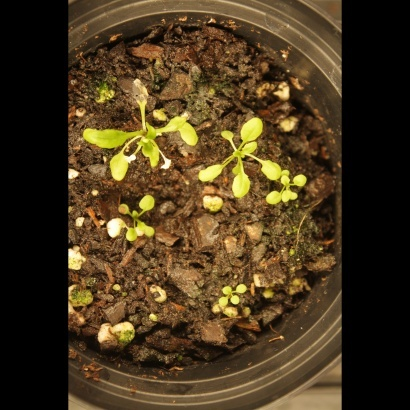leaf: (81, 120, 132, 150), (165, 116, 206, 149), (191, 157, 229, 187), (133, 139, 169, 170), (227, 170, 259, 204), (101, 151, 130, 185), (236, 115, 270, 144), (252, 154, 285, 182), (213, 120, 240, 144), (294, 167, 317, 190), (258, 190, 281, 213), (283, 189, 306, 212), (275, 167, 298, 190), (139, 192, 162, 215), (109, 197, 132, 220), (116, 225, 139, 248), (140, 220, 163, 243), (208, 296, 231, 319), (209, 273, 232, 296), (235, 272, 258, 295), (231, 296, 254, 319)
